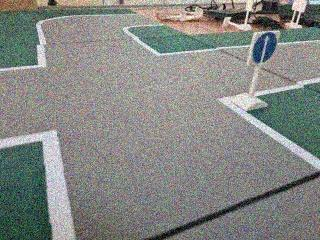straight: (249, 30, 279, 65)
